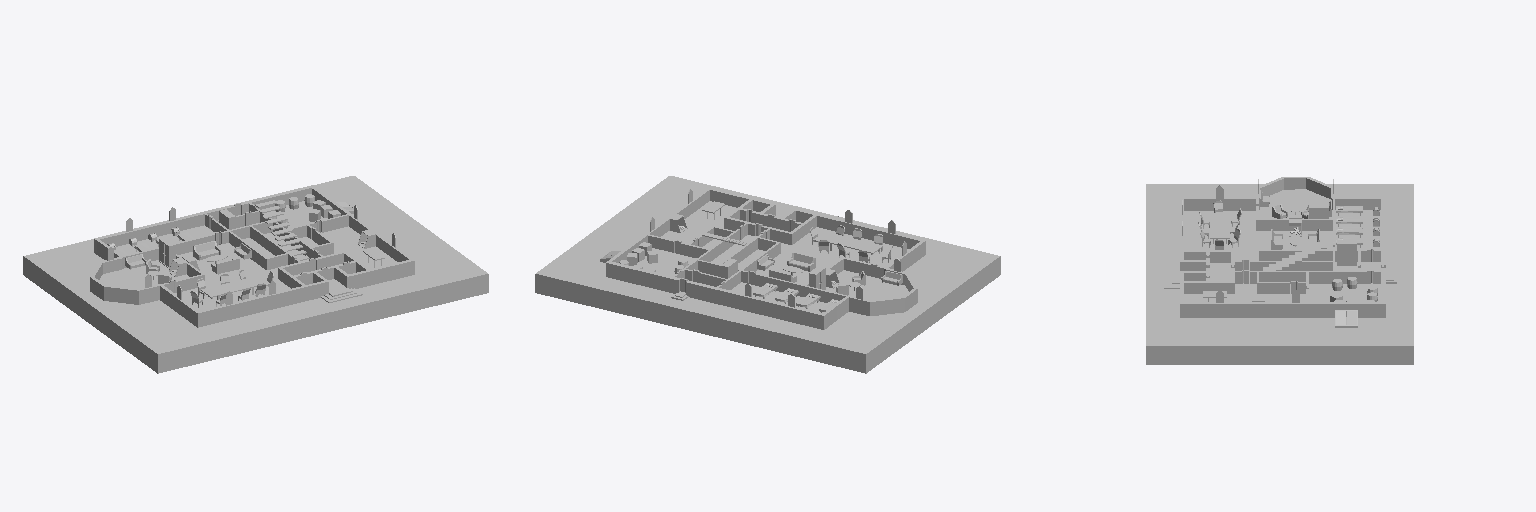
3 renders of one model, left to right at view 1: azimuth 30°, elevation 25°; view 2: azimuth 150°, elevation 25°; view 3: azimuth 270°, elevation 25°, orthographic.
Parts seen in each view (by area): view 1: F1.Walls.002_Cube.059; view 2: F1.Walls.002_Cube.059; view 3: F1.Walls.002_Cube.059.
Boxes of the visible parts, x1,y1,x2,y2 form: F1.Walls.002_Cube.059: [23, 176, 488, 373]; F1.Walls.002_Cube.059: [535, 176, 1000, 373]; F1.Walls.002_Cube.059: [1146, 177, 1413, 364].
Size of the model in its own units: 4.7 by 0.7673 by 3.31.